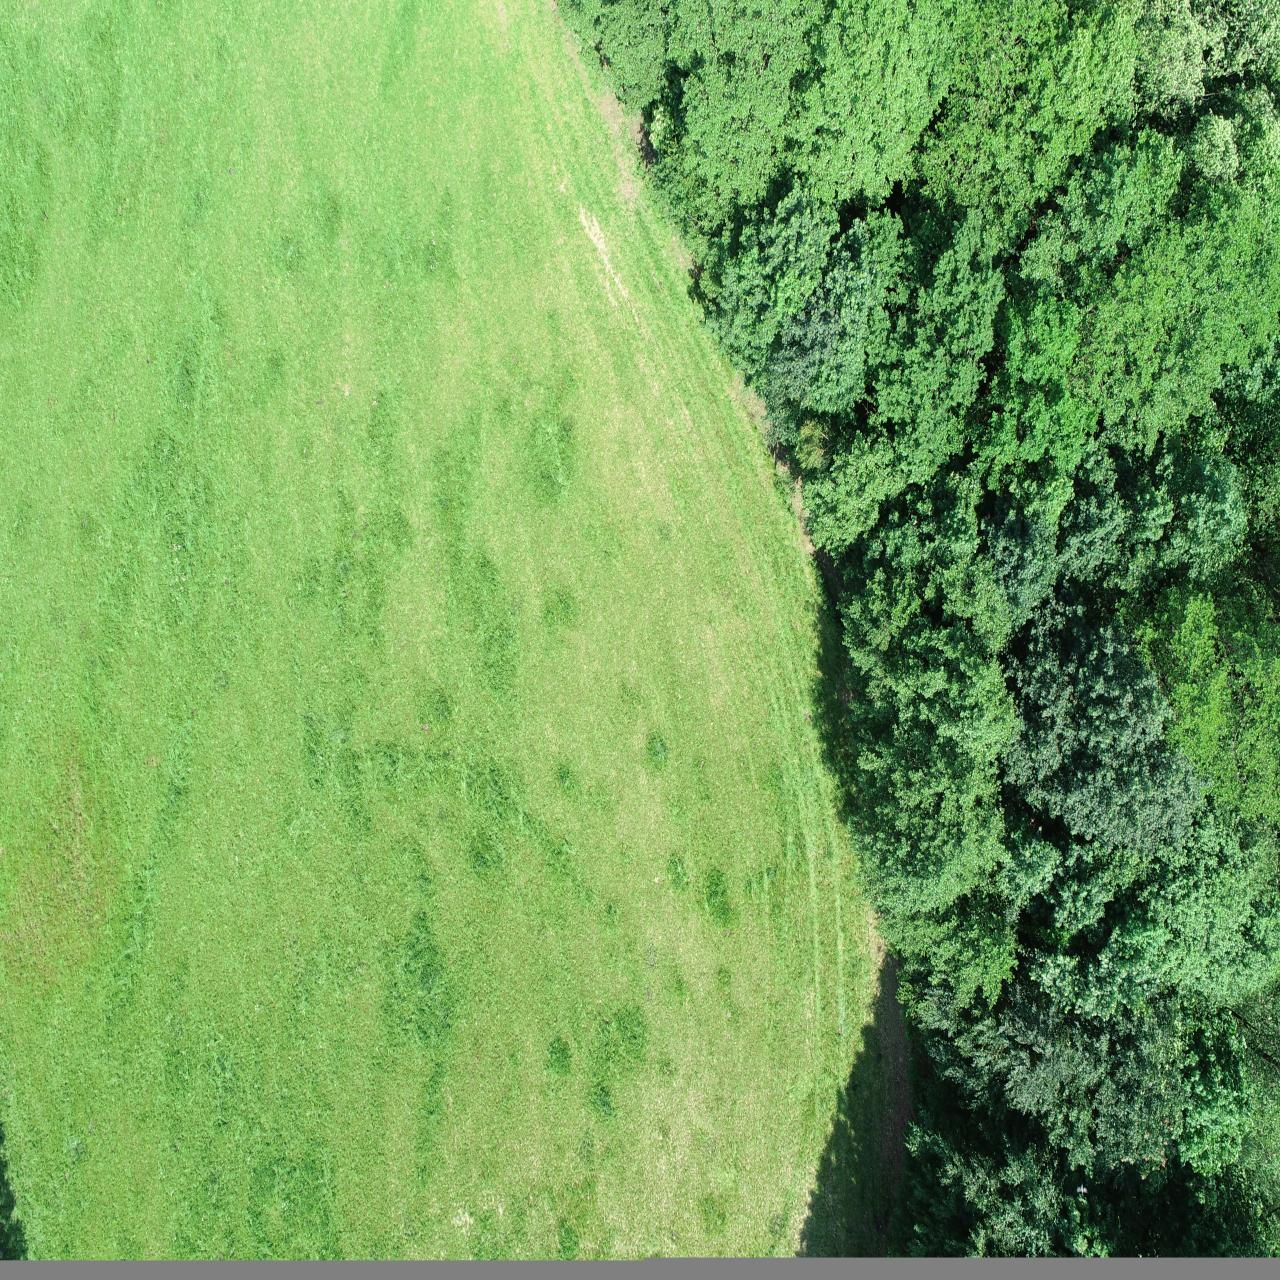cow: (792, 1217, 818, 1267), (761, 1098, 783, 1151)
